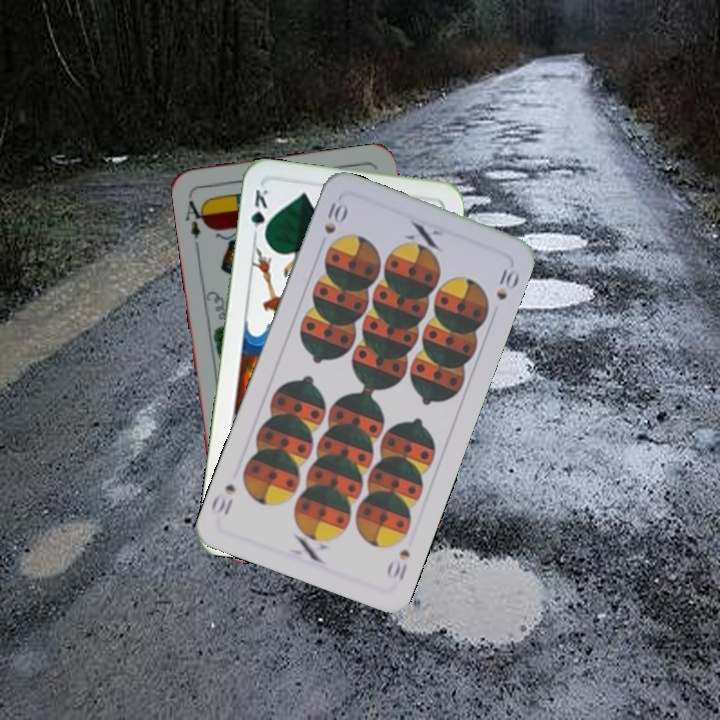EA: (181, 197, 210, 242)
GK: (246, 185, 271, 243)
S10: (382, 545, 413, 584), (320, 198, 349, 237)
